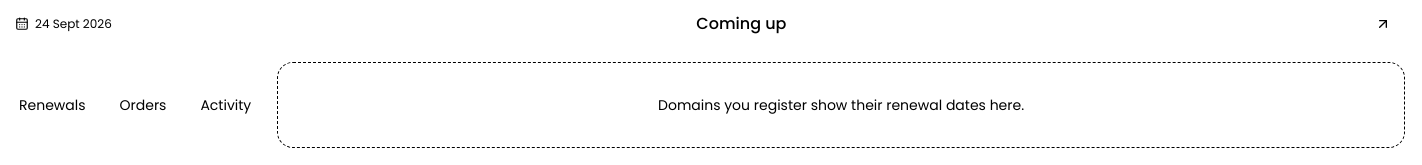
ComingUp › says what will appear in each tab on a new account
Check: the panel named "Renewals" reads "Domains you register show their renewal dates here.", box [658,95,1024,115]
Click the tab "Orders".
click(143, 105)  # box [106,87,180,123]
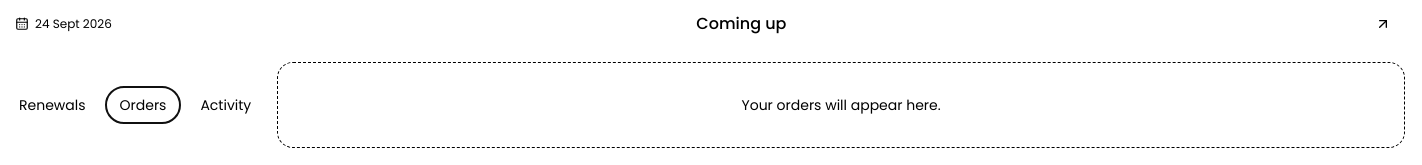
Check: the panel "orders" reads "Your orders will appear here.", box [742,95,941,115]
Click the tab "Activity".
click(226, 105)  # box [186,87,265,123]
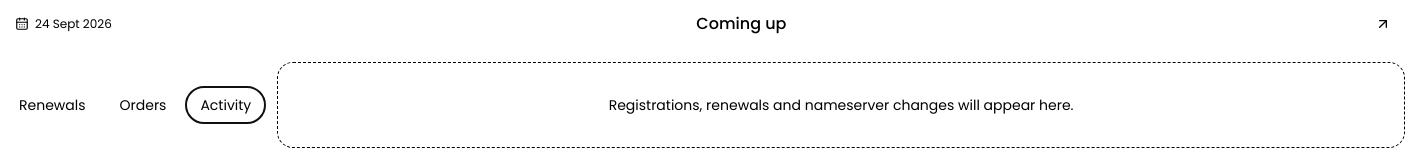
Check: the panel named "Activity" reads "Registrations, renewals and nameserver changes will appear here.", box [609,95,1074,115]
